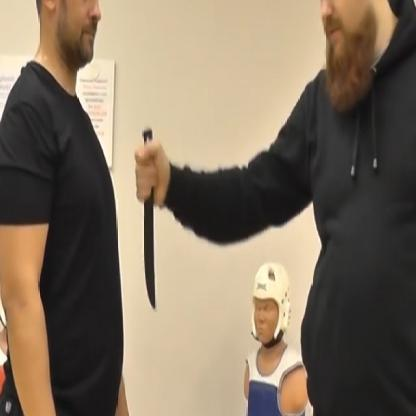knife: (131, 120, 166, 317)
